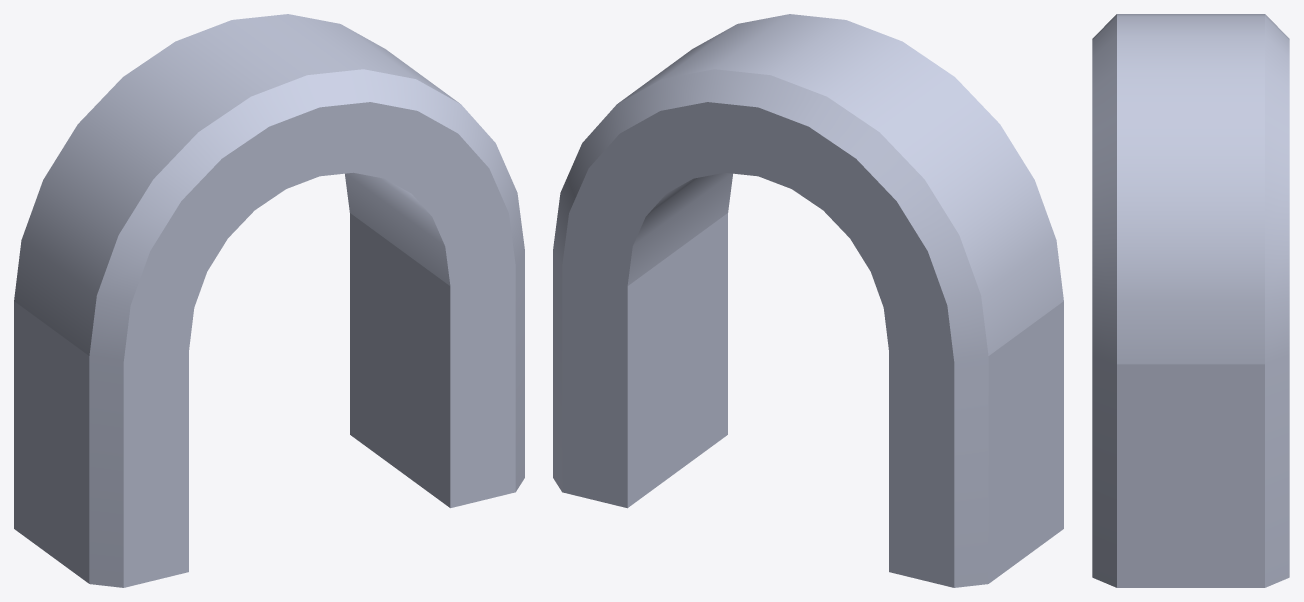
The model's file is doorLargeOpen.fbx.
The picture shows the model from 3 angles, left to right: view 1: azimuth 30°, elevation 25°; view 2: azimuth 150°, elevation 25°; view 3: azimuth 270°, elevation 25°; orthographic projection.
Visible parts, largest first — view 1: doorLargeOpen; view 2: doorLargeOpen; view 3: doorLargeOpen.
Part boxes in pixels (<box>): doorLargeOpen: <box>14,14,524,587</box>; doorLargeOpen: <box>553,14,1063,587</box>; doorLargeOpen: <box>1092,14,1289,587</box>.
Size of the model in its own units: 10 by 10 by 4.
